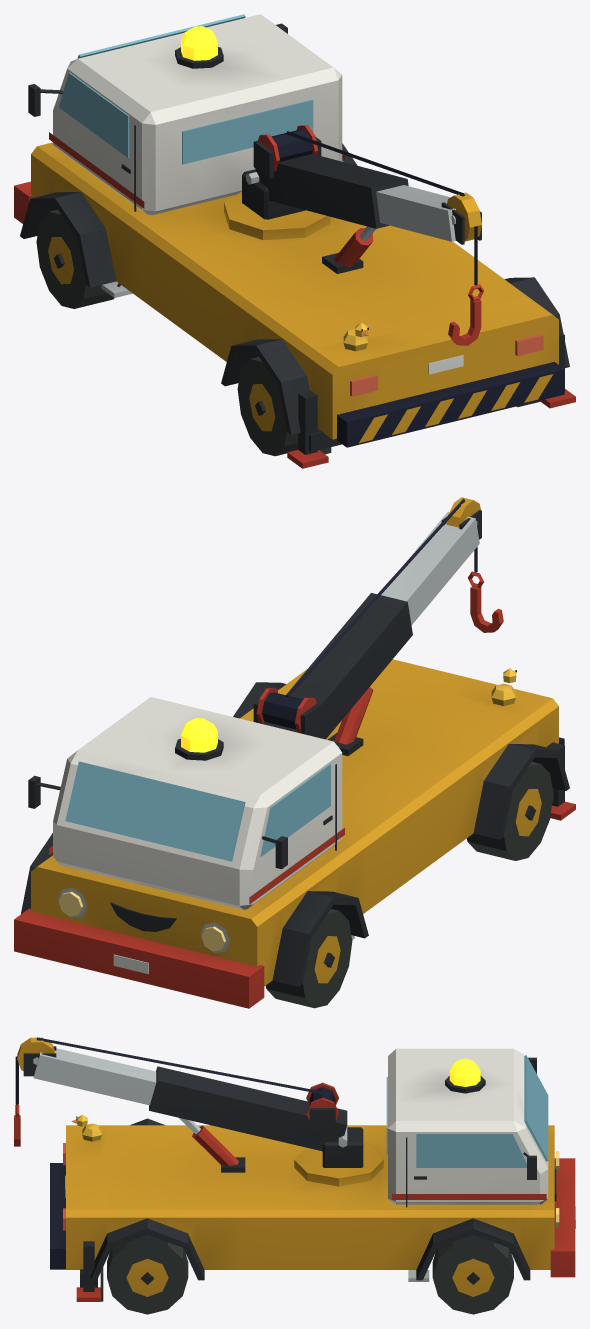
File: sm_vehicle_tow_crane.glb
3 renders of one model, top to bottom at view 1: azimuth 30°, elevation 25°; view 2: azimuth 150°, elevation 25°; view 3: azimuth 270°, elevation 25°, orthographic. The views are drawn at different scales.
Visible parts, largest first — view 1: Chassis, Cab, Boom, Wheels, Beacon, TailLights, Hook; view 2: Chassis, Cab, Boom, Wheels, Beacon, Hook, Light; view 3: Chassis, Cab, Boom, Wheels, Beacon.
Part boxes in pixels (x1,y1,x2,y2): Chassis: (14, 142, 575, 468); Cab: (28, 14, 344, 215); Boom: (224, 125, 481, 285); Wheels: (36, 209, 298, 456); Beacon: (181, 26, 217, 60); TailLights: (350, 334, 543, 396); Hook: (448, 284, 483, 345); Chassis: (14, 659, 575, 1008); Cab: (28, 697, 344, 909); Boom: (253, 497, 481, 755); Wheels: (265, 761, 553, 1008); Beacon: (181, 718, 217, 752); Hook: (468, 571, 503, 632); Light: (58, 891, 225, 951); Chassis: (50, 1115, 575, 1301); Cab: (386, 1048, 548, 1207); Boom: (15, 1037, 383, 1186); Wheels: (107, 1234, 513, 1314); Beacon: (449, 1058, 480, 1086).
Size of the model in its own units: 3.2 by 3.04 by 6.9.
